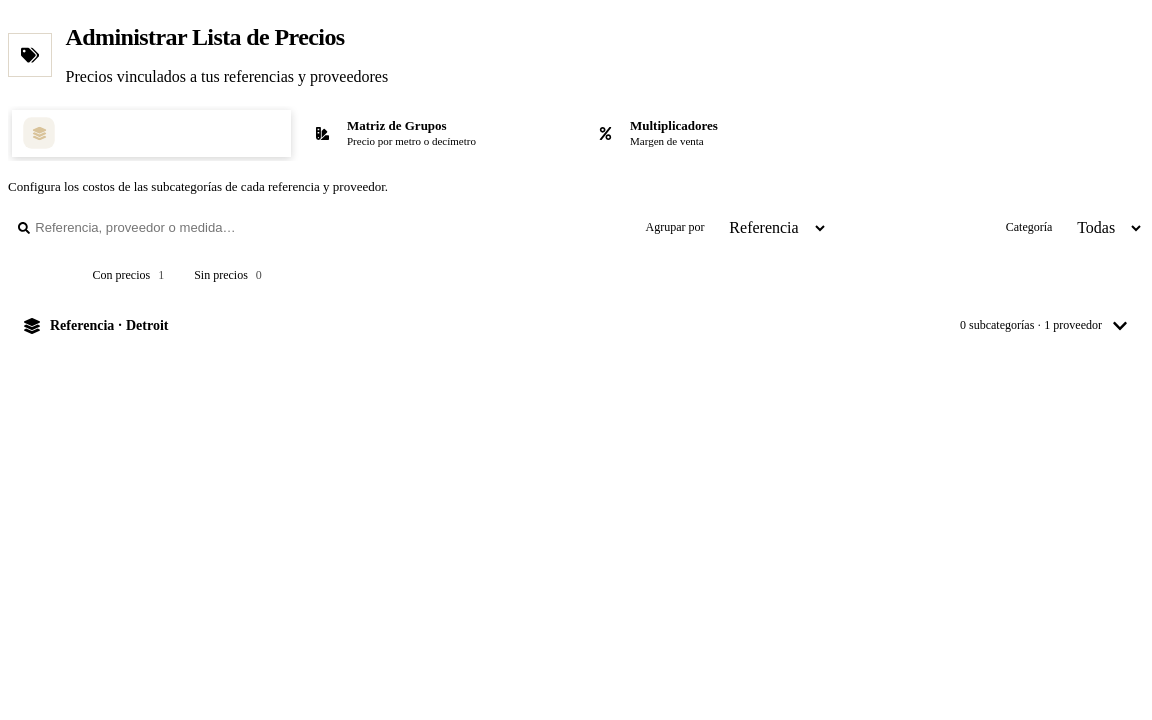
Test case: Administración de precios › carga solo cabeceras y pide cada referencia al abrirla; reabrir reutiliza el detalle
The width and height of the screenshot is (1152, 720).
Expected: the button with aria-label "Expandir referencia Detroit" is shown, [8,304,1144,348]
Select "Proveedor" in the dropdown labelled "Agrupar por". click: (770, 228)
box: [713,210,828,244]
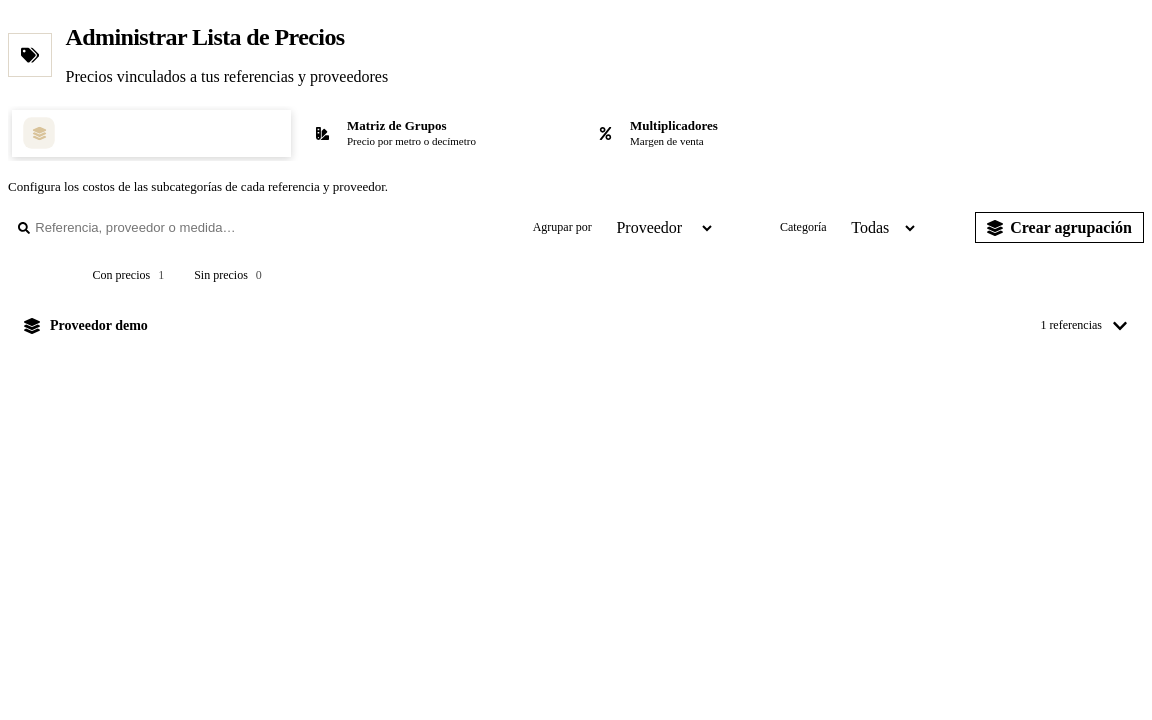
Type "Detroit" into the search field named "Buscar referencia, proveedor o medida". click: (247, 228)
box: [35,210,458,244]
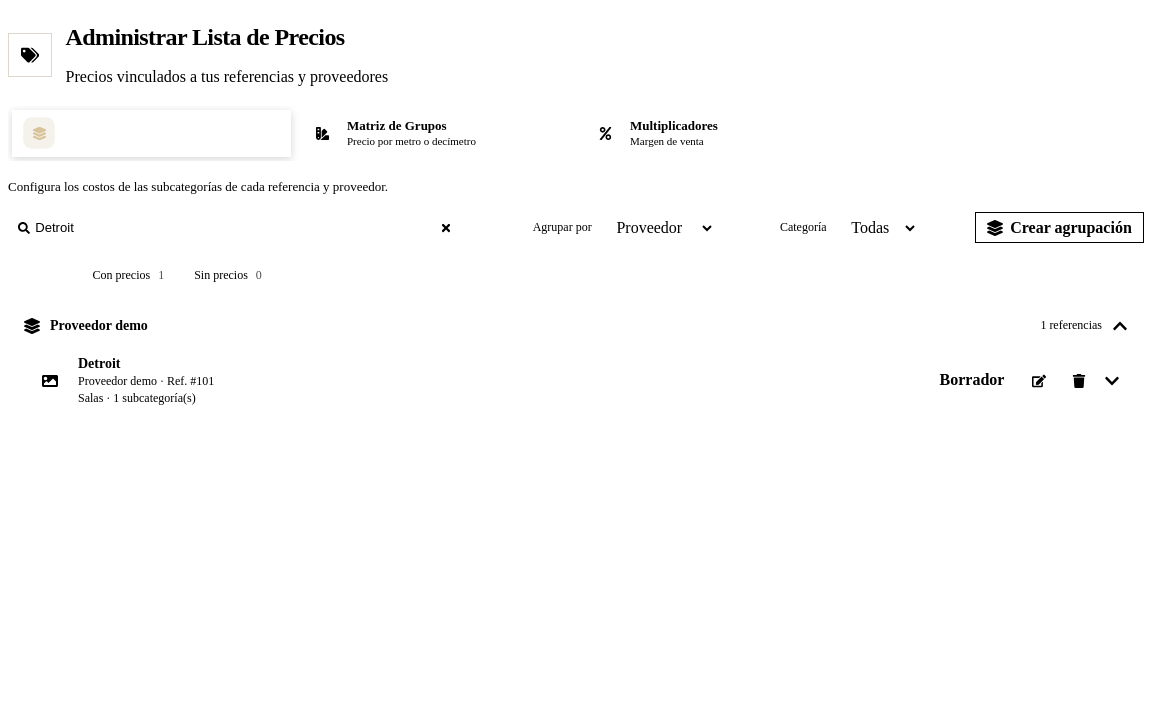
Click the text "Detroit". click: (99, 363)
box: [78,356,120,370]
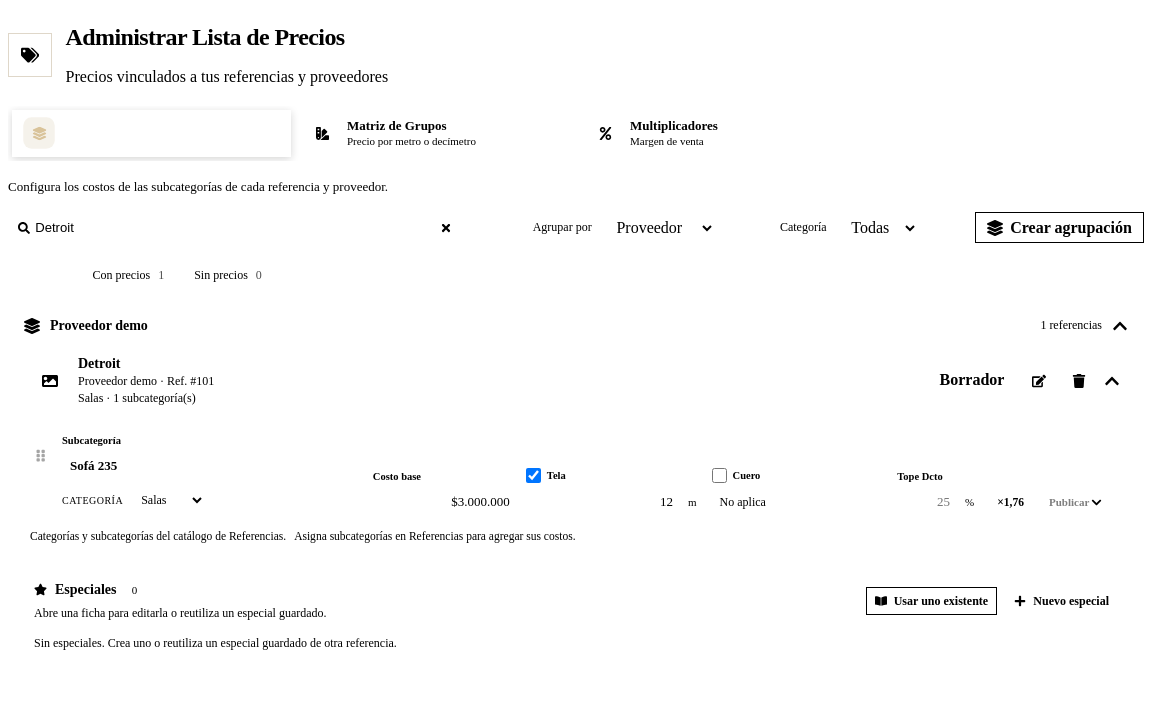
Result: the field labelled "Costo base" is shown at [373,486,518,518]
Click the text "Detroit". click: (99, 363)
box: [78,356,120,370]
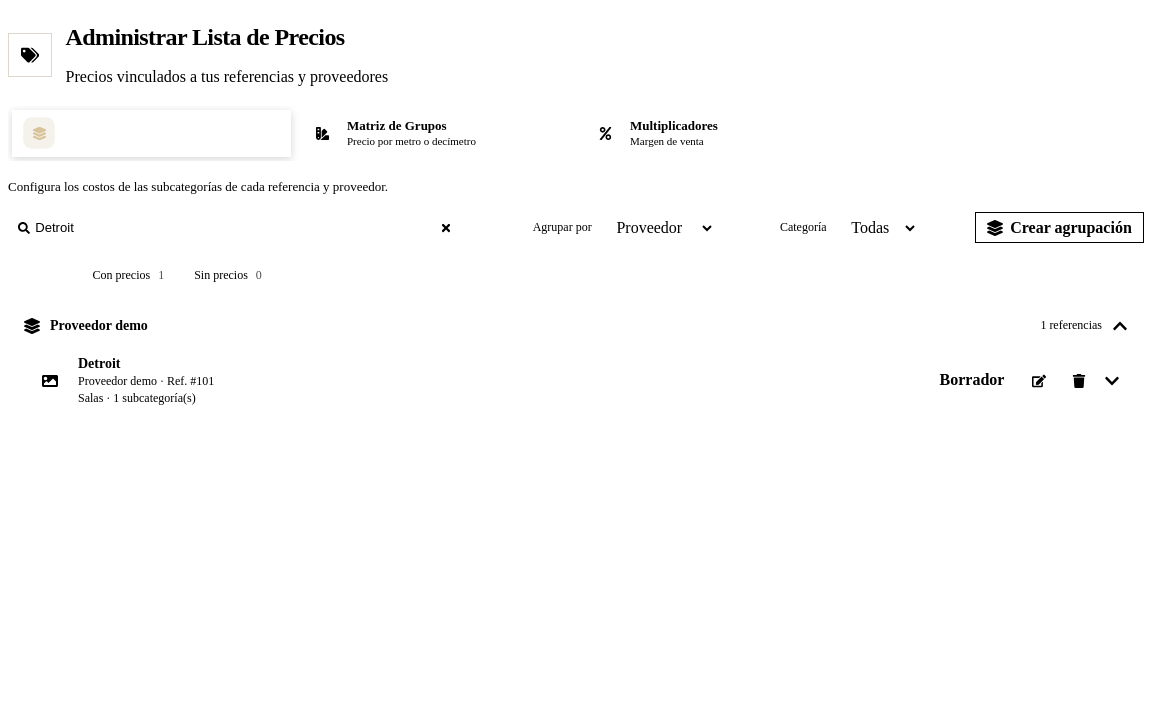
Click the text "Detroit". click: (99, 363)
box: [78,356,120,370]
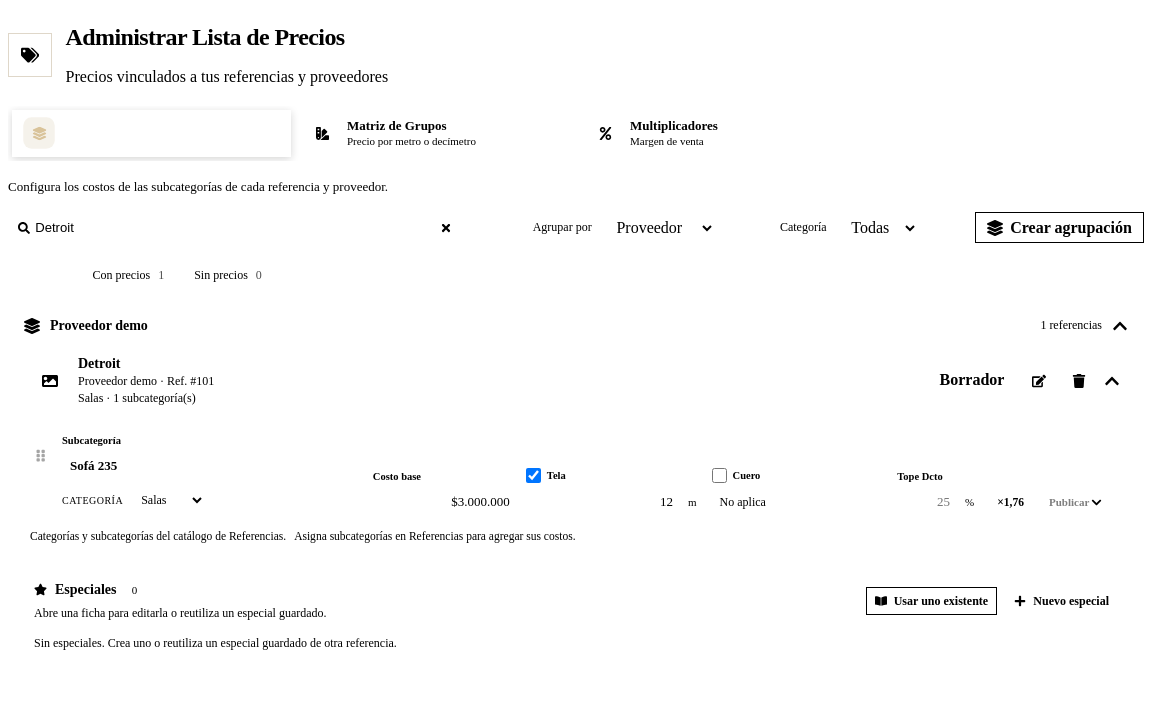
Result: the field labelled "Costo base" is shown at [373,486,518,518]
